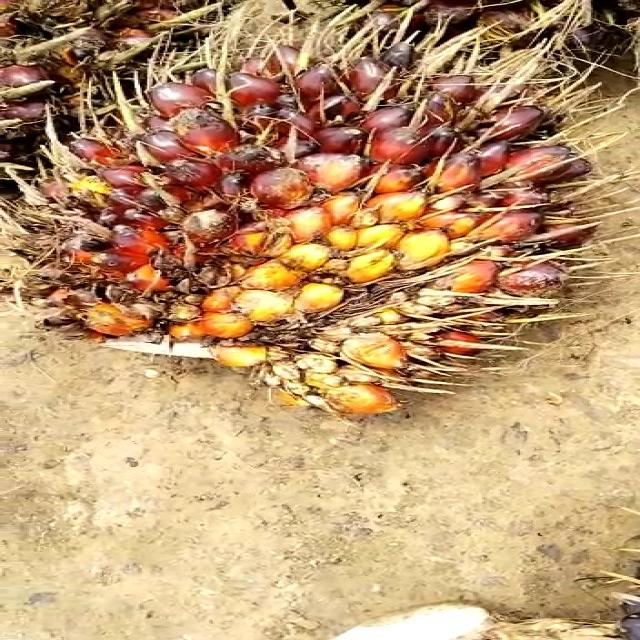palm oil: (0, 19, 631, 414)
